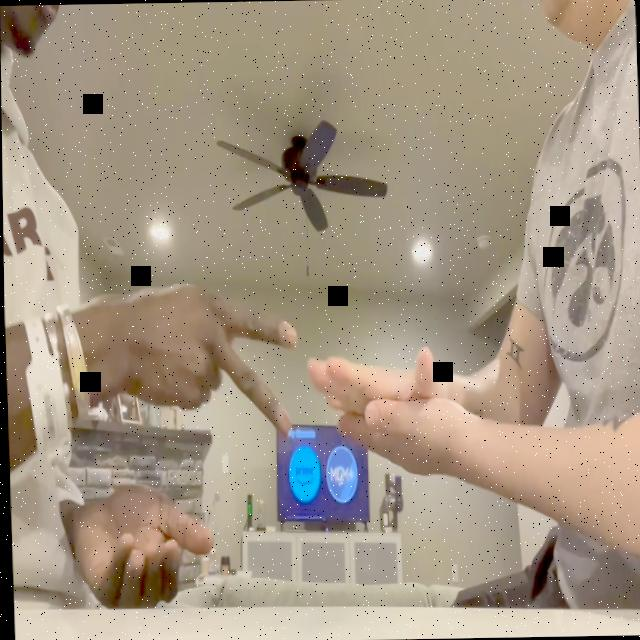Paper: (307, 345, 461, 402)
Scissors: (127, 280, 300, 440)
